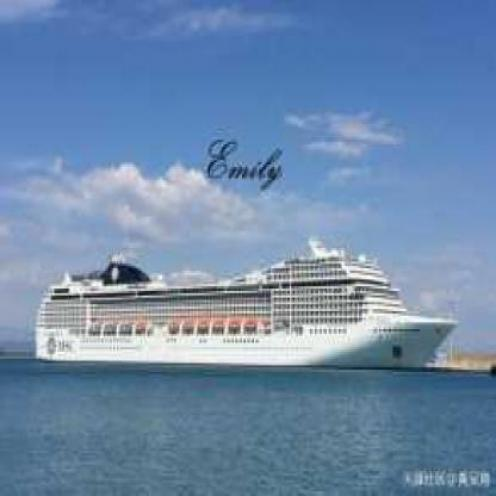Ship: (19, 237, 471, 377)
